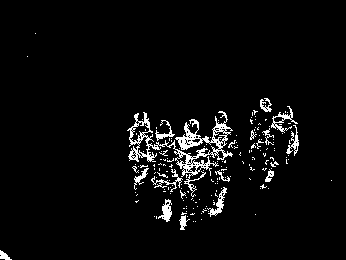person: (178, 115, 210, 232), (208, 109, 239, 218), (153, 116, 183, 225), (266, 103, 300, 195), (129, 109, 156, 208), (247, 96, 270, 181)
